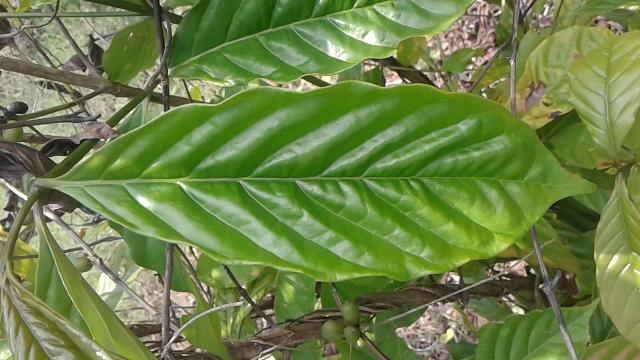healthy: (51, 79, 597, 282)
